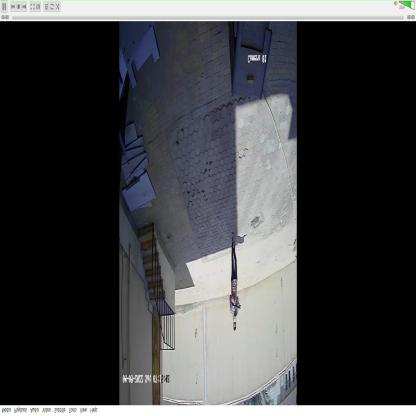handgun: (228, 296, 245, 313)
